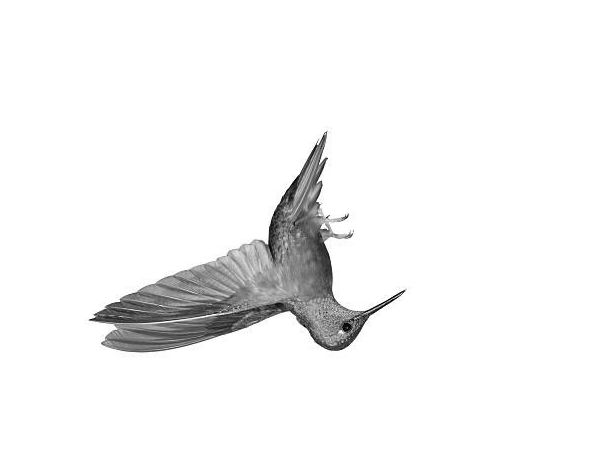Bird: (83, 128, 408, 360)
